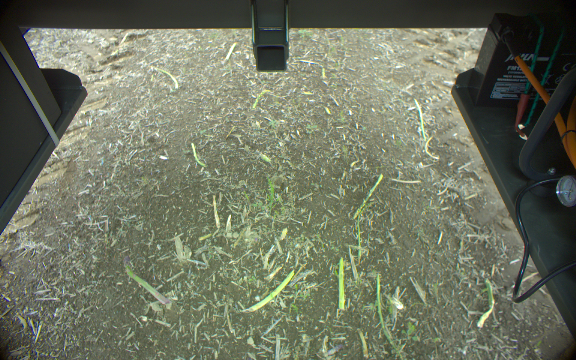aspa: (237, 268, 294, 312), (120, 256, 166, 305), (352, 173, 384, 219), (337, 255, 347, 311)
